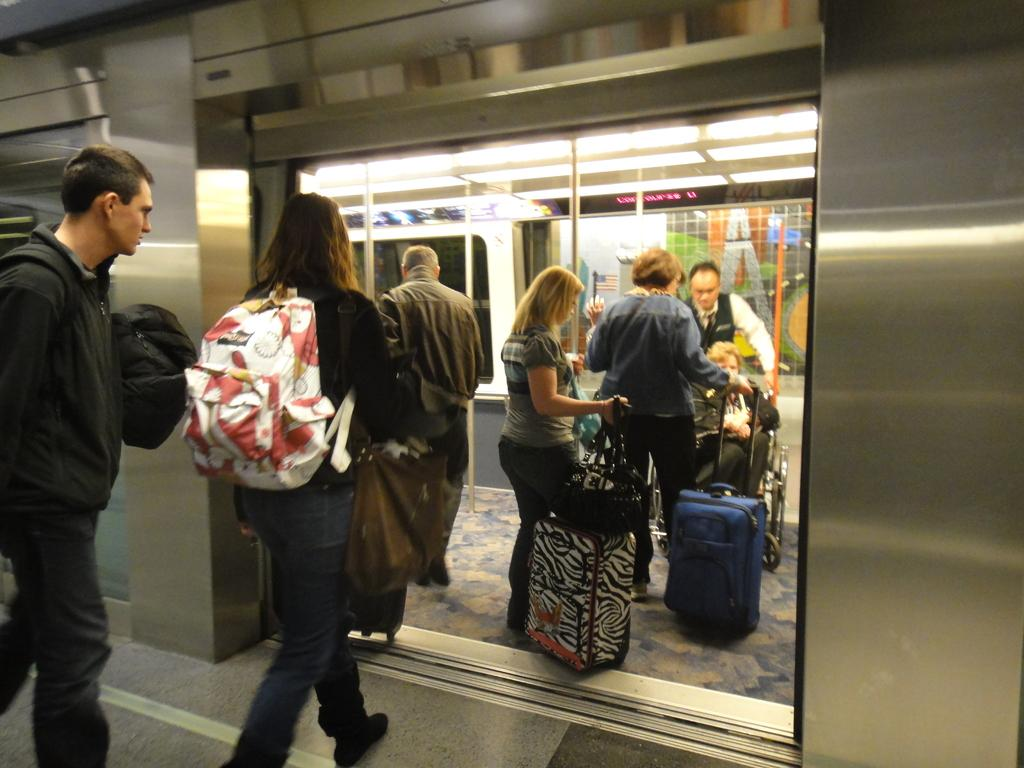Luggage-and-bags: (181, 282, 353, 491), (515, 396, 641, 680), (337, 288, 445, 598), (668, 486, 755, 650), (558, 396, 644, 533), (0, 243, 83, 377)
